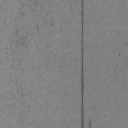surface scratch: (80, 0, 84, 128), (88, 118, 92, 128)
